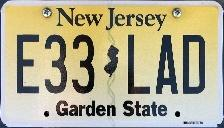3: (70, 32, 98, 96), (42, 33, 70, 95)
A: (153, 33, 180, 96)
D: (181, 33, 207, 95)
F: (15, 33, 42, 95)
L: (125, 33, 152, 96)
